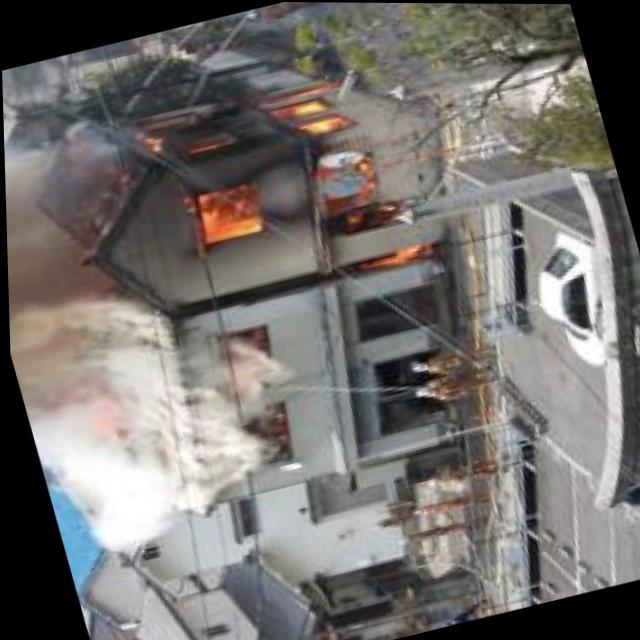Fire: (134, 61, 443, 331)
